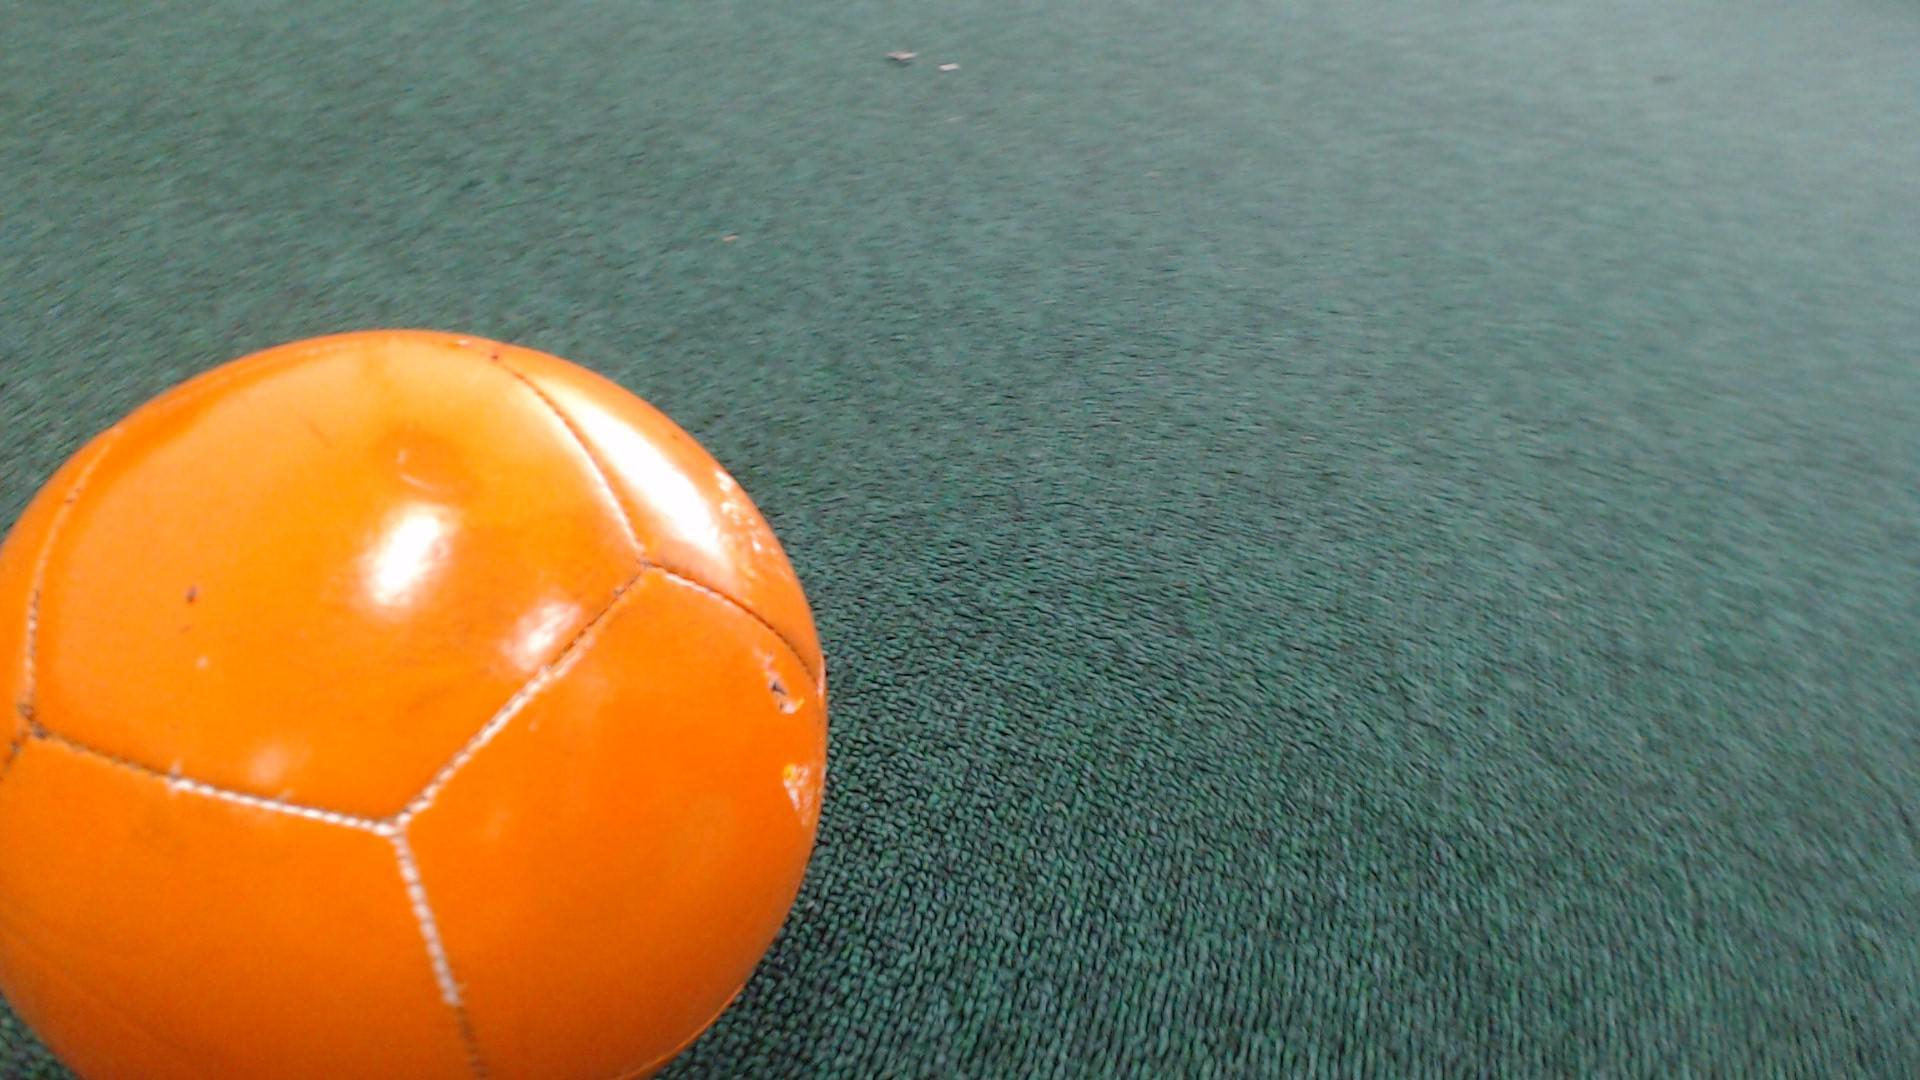bola: (0, 295, 890, 1079)
